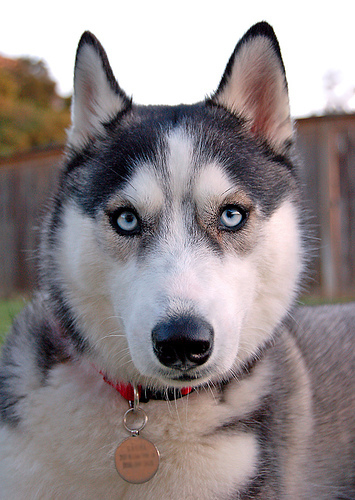dog: (0, 20, 353, 498)
